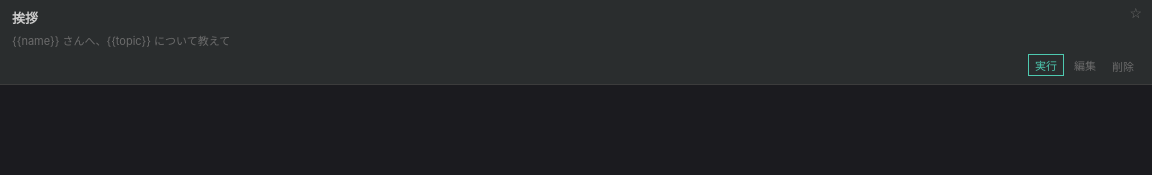
Test: PromptItem › 変数テンプレート › 変数を含むプロンプトは実行クリックで変数入力モードに遷移する
Click the button with aria-label "プロンプトを実行".
click(1046, 65)  # box [1028,54,1064,76]
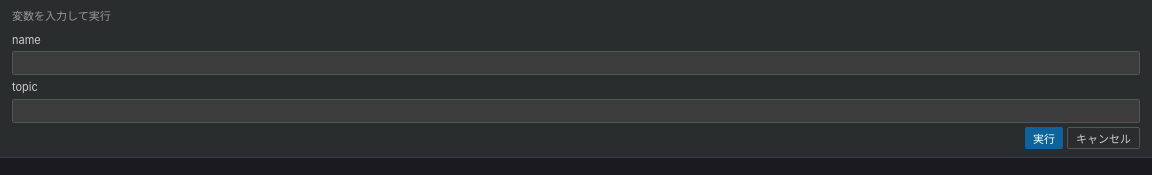
Result: the field named "変数 name の値" is shown at [12,51,1140,75]
Result: the field named "変数 topic の値" is shown at [12,99,1140,123]
